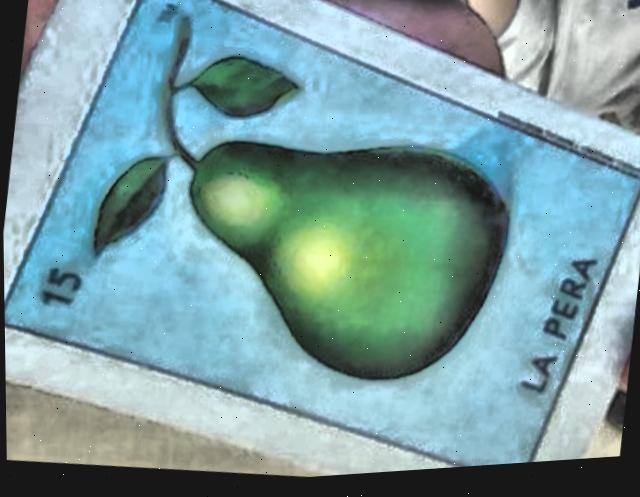La Pera: (4, 0, 640, 473)
